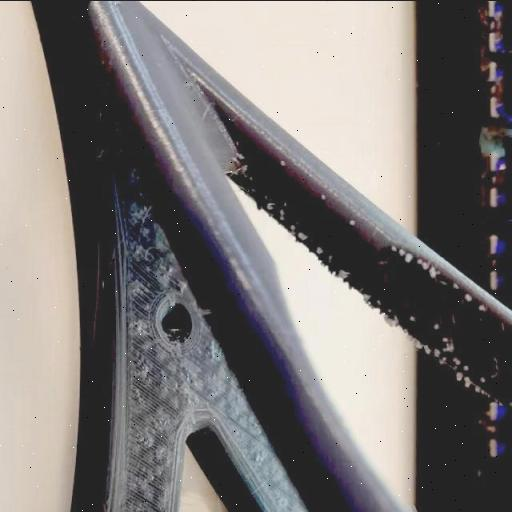blobs: (316, 190, 334, 204), (460, 288, 474, 304), (426, 263, 442, 277), (314, 242, 327, 258), (454, 367, 465, 385), (296, 228, 310, 242), (336, 266, 350, 280), (416, 254, 428, 270), (277, 154, 290, 168), (276, 208, 290, 221), (386, 242, 400, 254), (430, 322, 444, 334), (422, 340, 432, 356), (474, 304, 488, 314), (348, 216, 358, 230), (404, 252, 415, 264), (262, 200, 275, 210), (286, 222, 300, 230), (463, 363, 473, 374), (454, 280, 462, 290), (410, 312, 416, 324), (398, 248, 404, 258)
